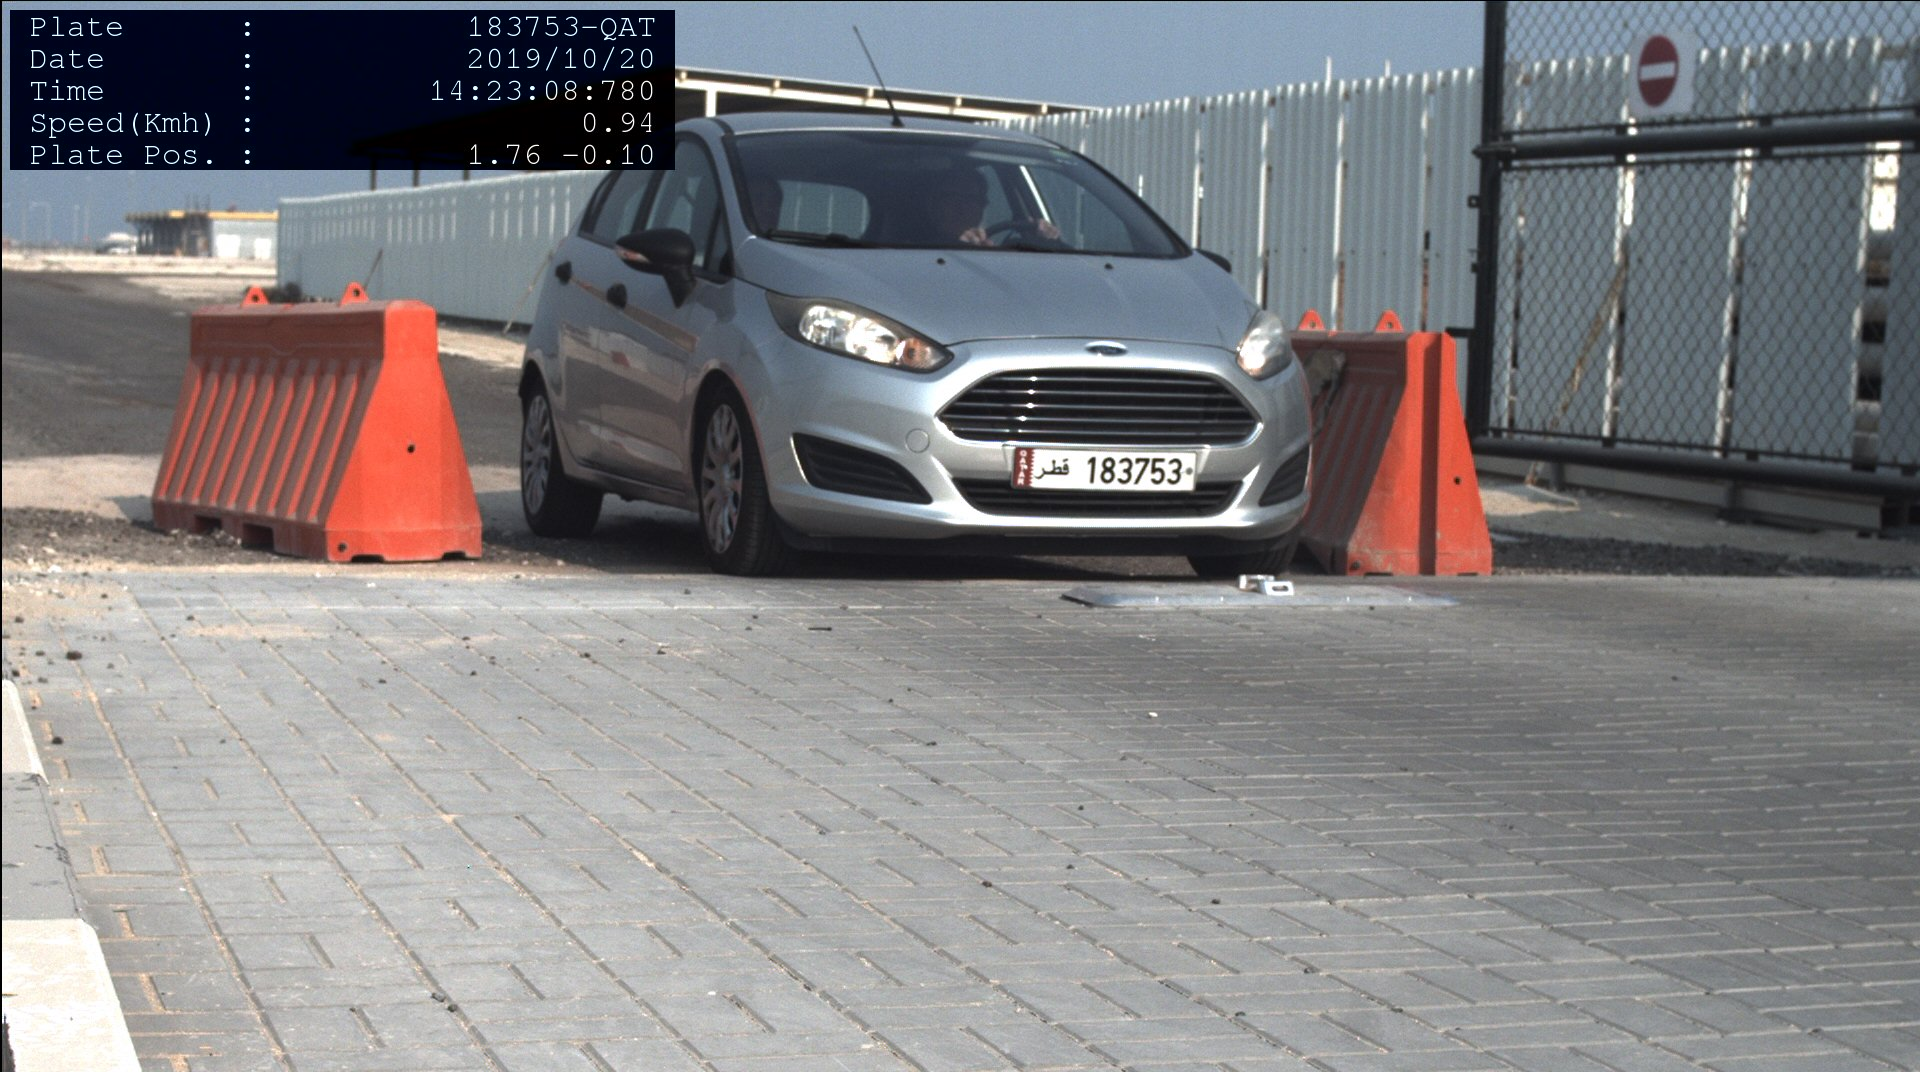License Plate: (1013, 450, 1197, 488)
